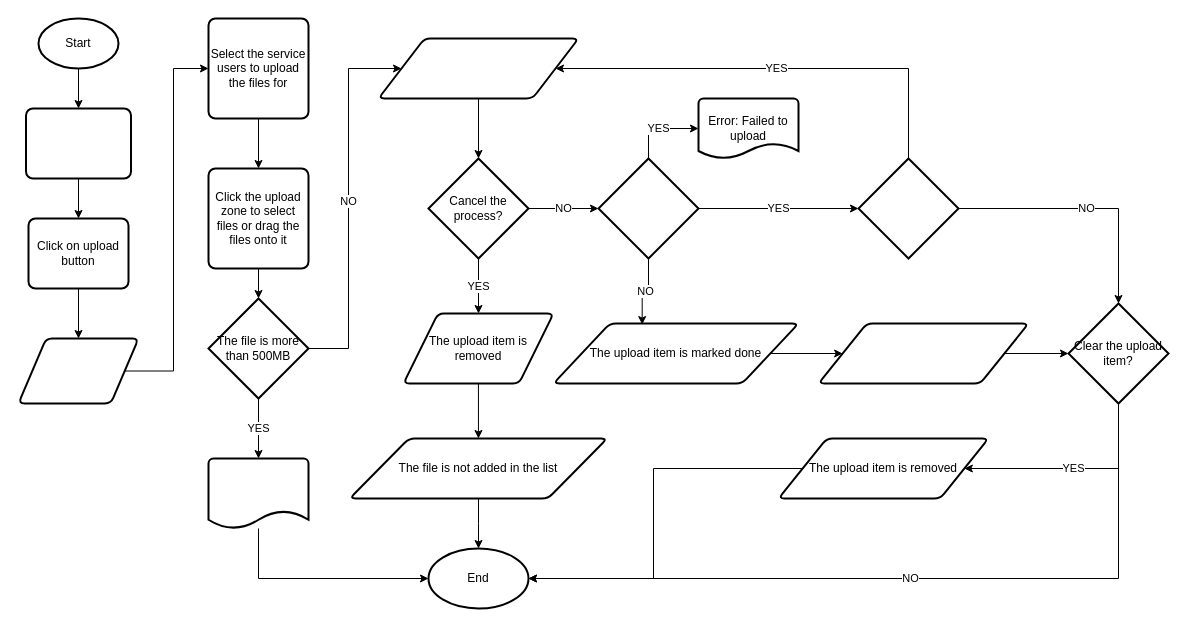
Image size: 1186x626. Some labels were removed from this diagram. Each missing label, with the centre of its shape:
Error: Please select file under 500MB: pixel 258 493
Navigate to the library screen: pixel 78 143
Retry?: pixel 908 208
The file is added in the list: pixel 923 353
The upload items with uploading progress: pixel 478 68
Upload failed?: pixel 648 208
Upload modal: pixel 78 370
